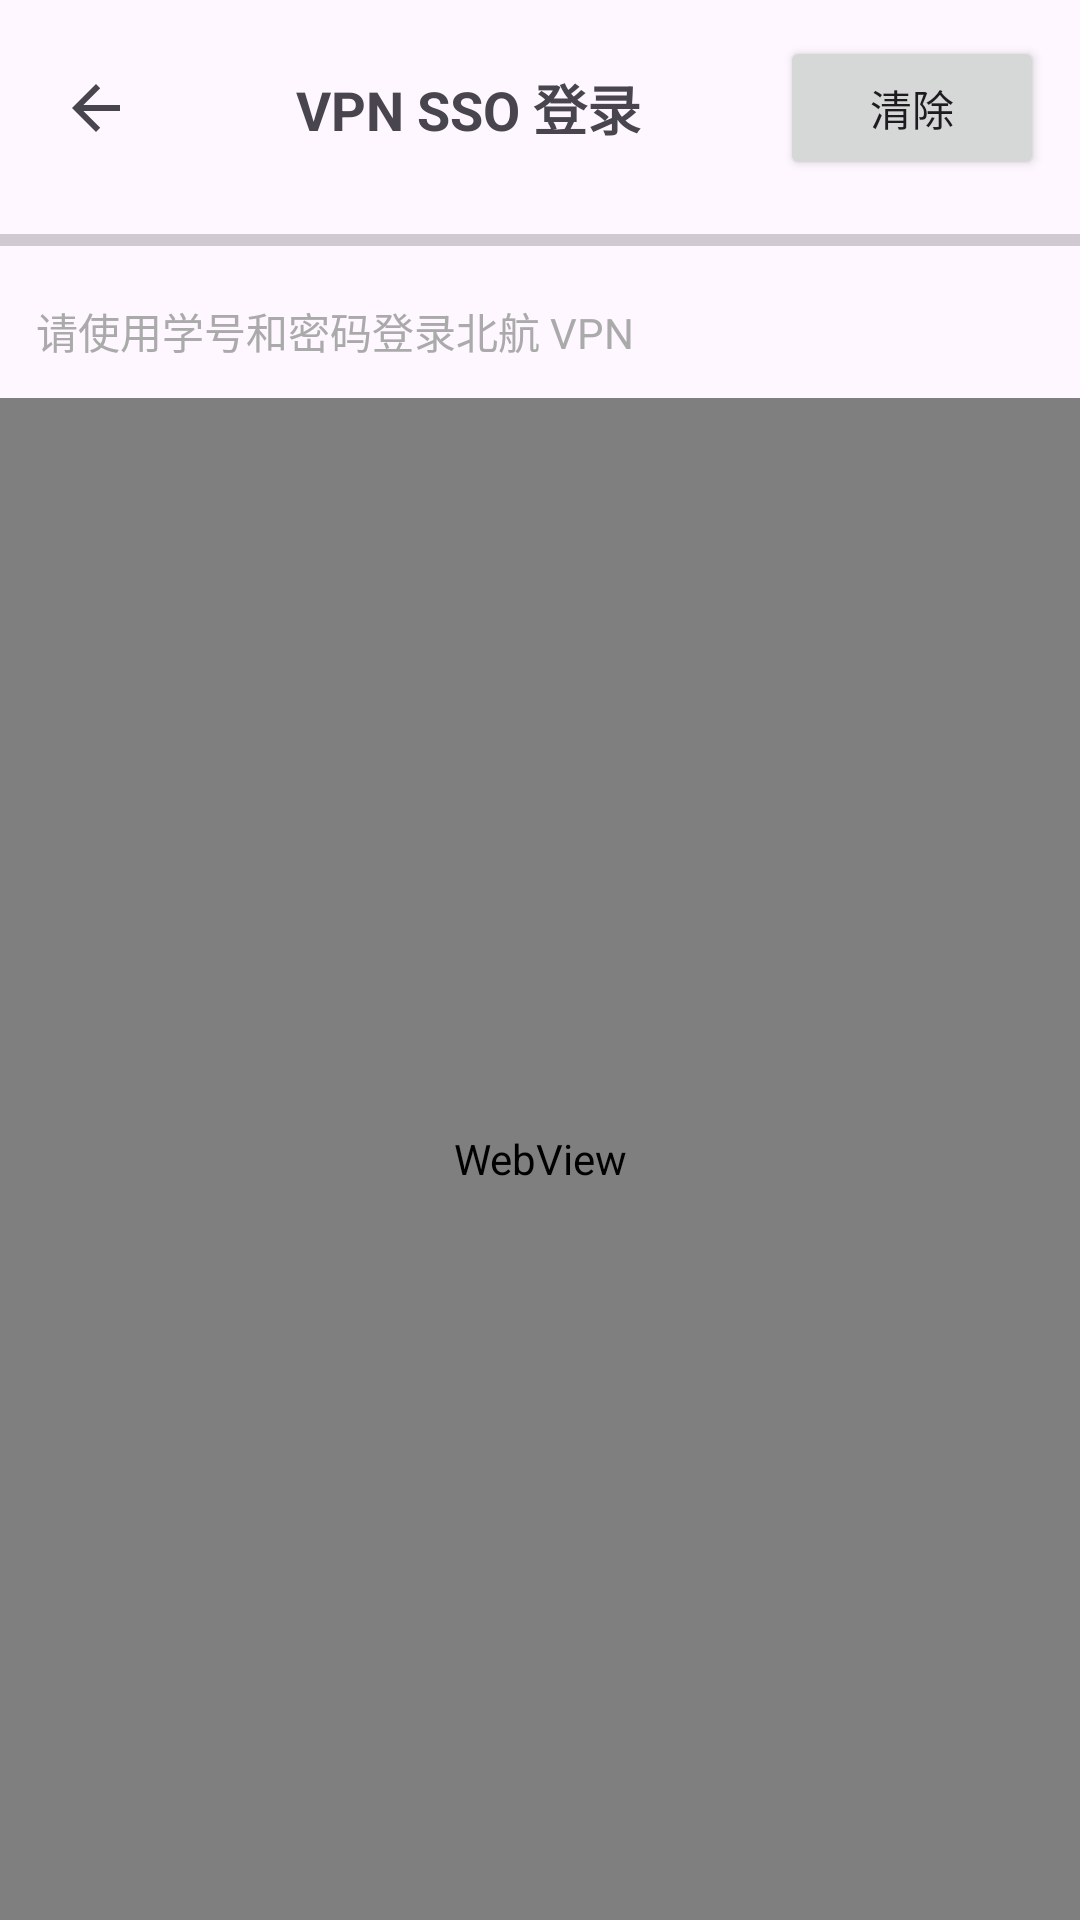

Locate icon controls on the screen. Image size 1080*1920, boxes as (x1, y1, x2, y2).
返回: (72, 84, 120, 132)
